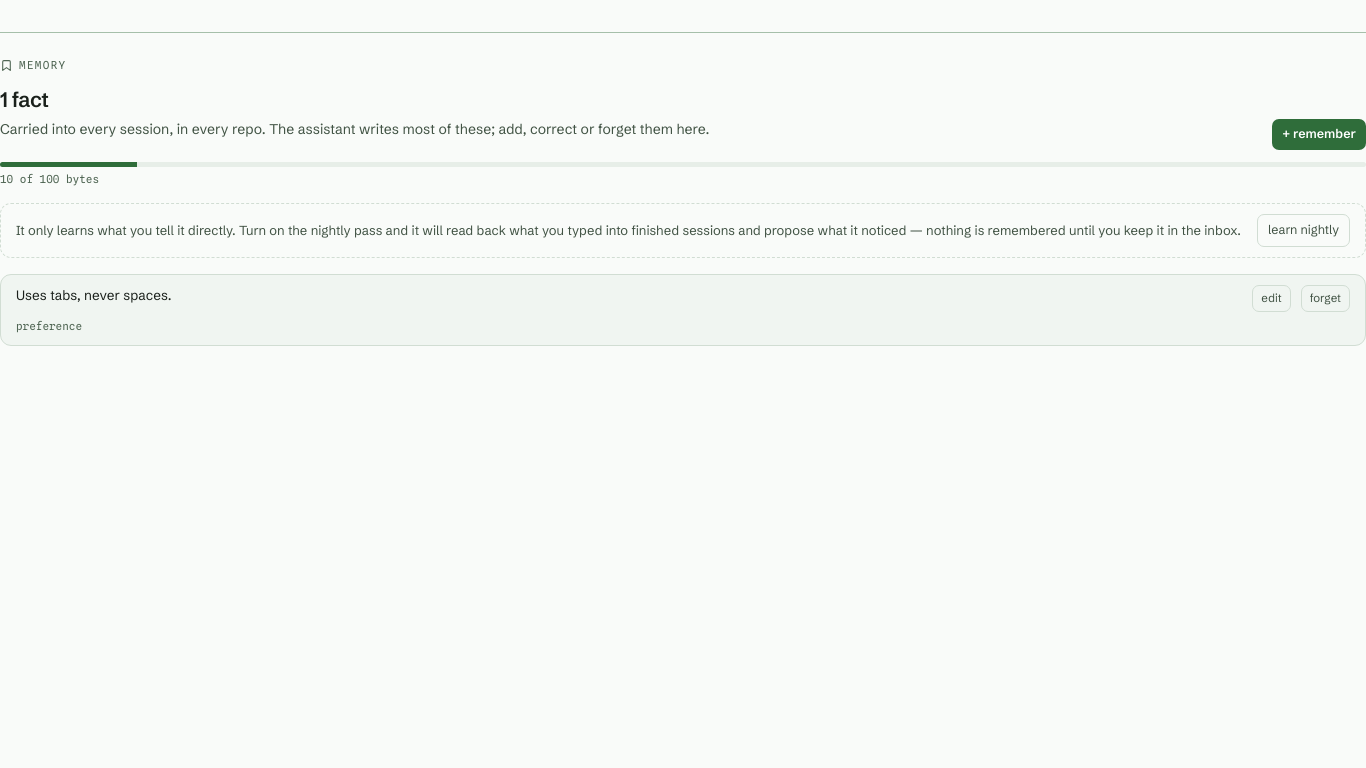
MemoryPanel (C-27) › asks before forgetting, and says so when the forget failed
Click the button with aria-label "forget: Uses tabs": (1325, 299) [1301, 285, 1350, 312]
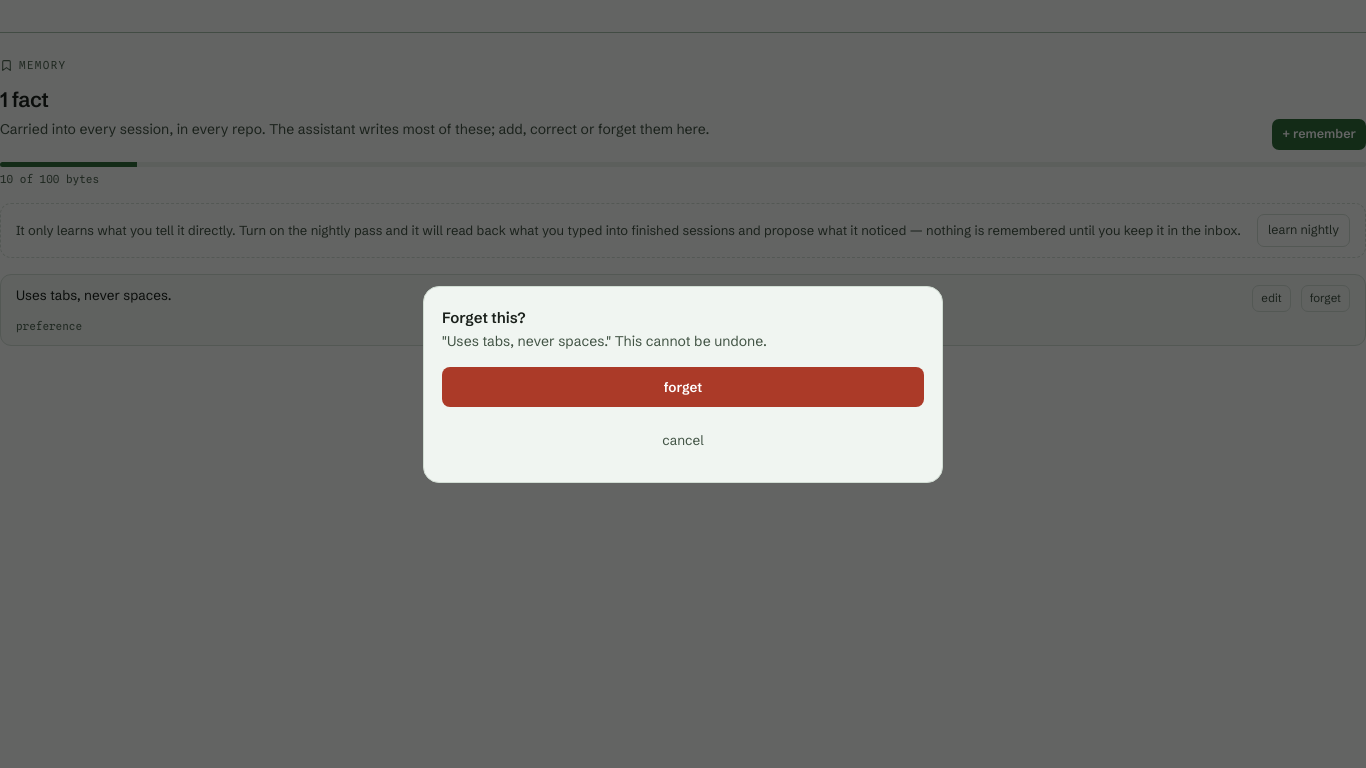
Click the button "forget": (683, 387) [442, 367, 924, 407]
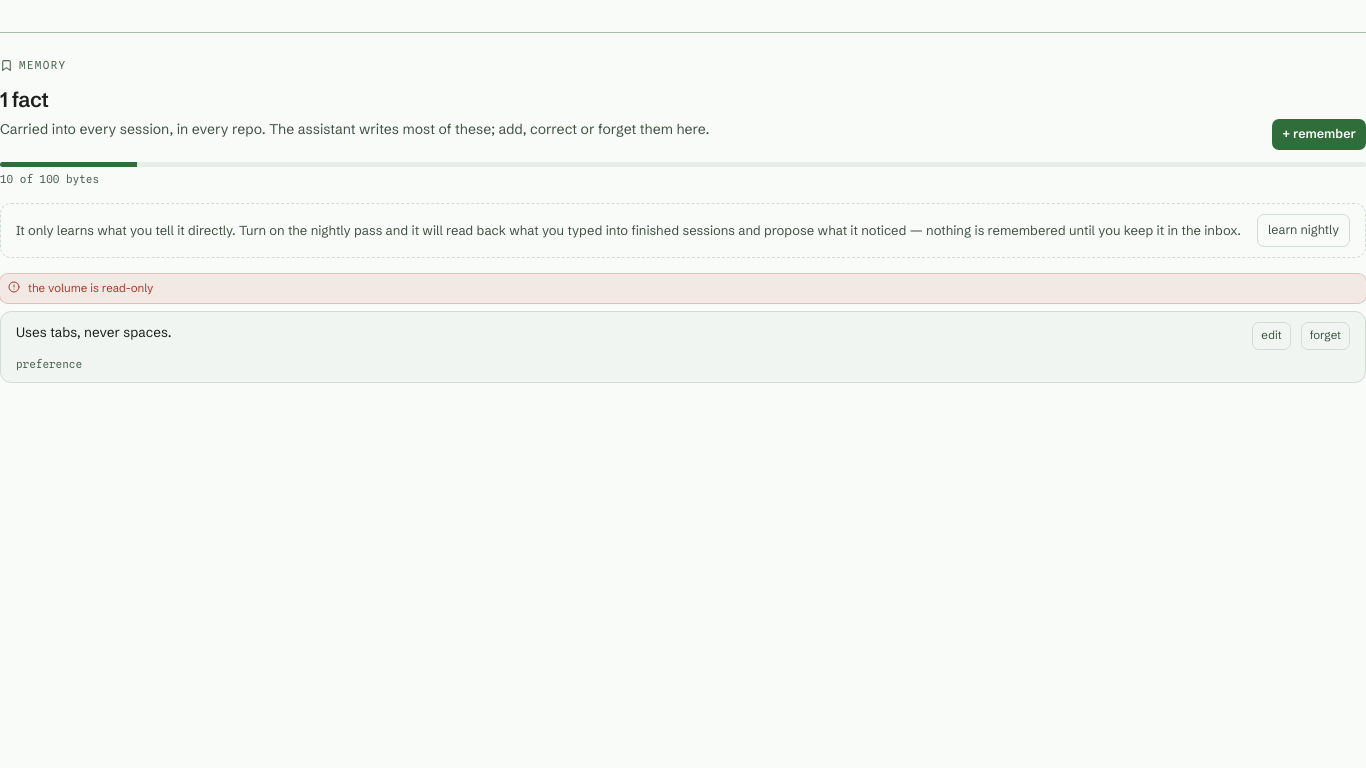
Result: the text "the volume is read-only" is shown at [28, 281, 153, 295]
